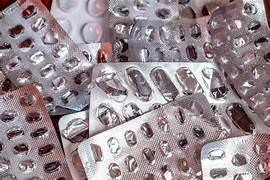pill_Strip: (89, 62, 267, 135), (78, 94, 219, 178), (0, 0, 92, 112), (209, 0, 269, 125), (109, 0, 227, 61), (0, 85, 70, 178), (113, 16, 213, 61), (201, 134, 269, 179), (108, 0, 229, 24), (50, 0, 109, 43), (59, 111, 88, 178), (182, 0, 230, 16), (78, 42, 112, 62), (0, 69, 15, 94)
